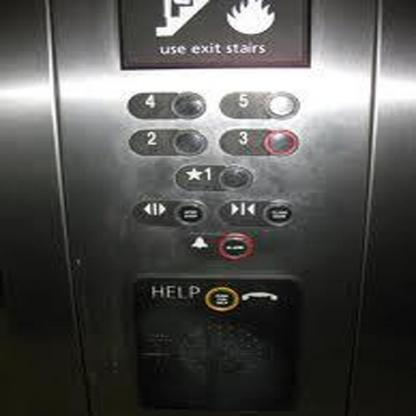2: (126, 125, 210, 156)
3: (217, 126, 300, 156)
4: (124, 89, 207, 120)
5: (218, 88, 300, 119)
alarm: (181, 228, 258, 260)
call: (202, 282, 278, 314)
close: (217, 197, 298, 227)
open: (129, 196, 211, 227)
s1: (172, 160, 256, 192)
